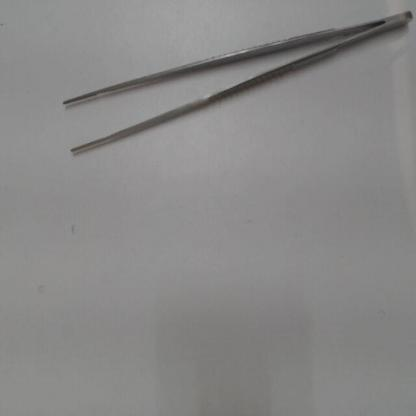DeBakey Dissector: (52, 6, 413, 166)
